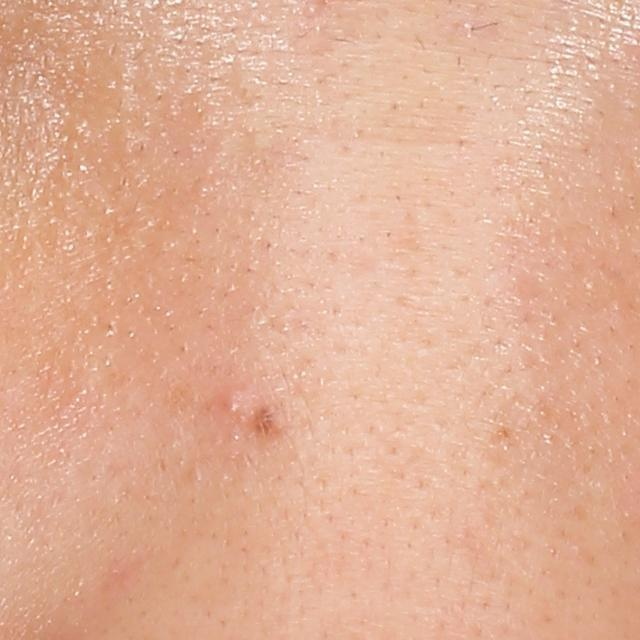nevus: (250, 404, 278, 440)
